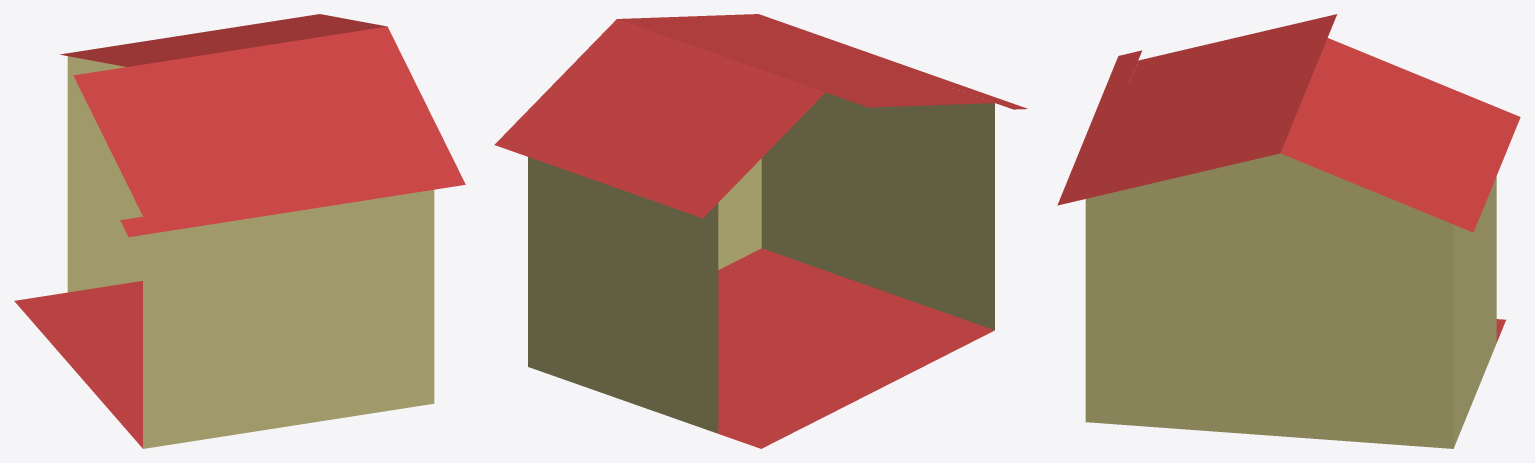
The picture shows the model from 3 angles, left to right: view 1: azimuth 30°, elevation 25°; view 2: azimuth 150°, elevation 25°; view 3: azimuth 270°, elevation 25°; orthographic projection. The views are drawn at different scales.
Size of the model in its own units: 13.05 by 14.2 by 9.92.
